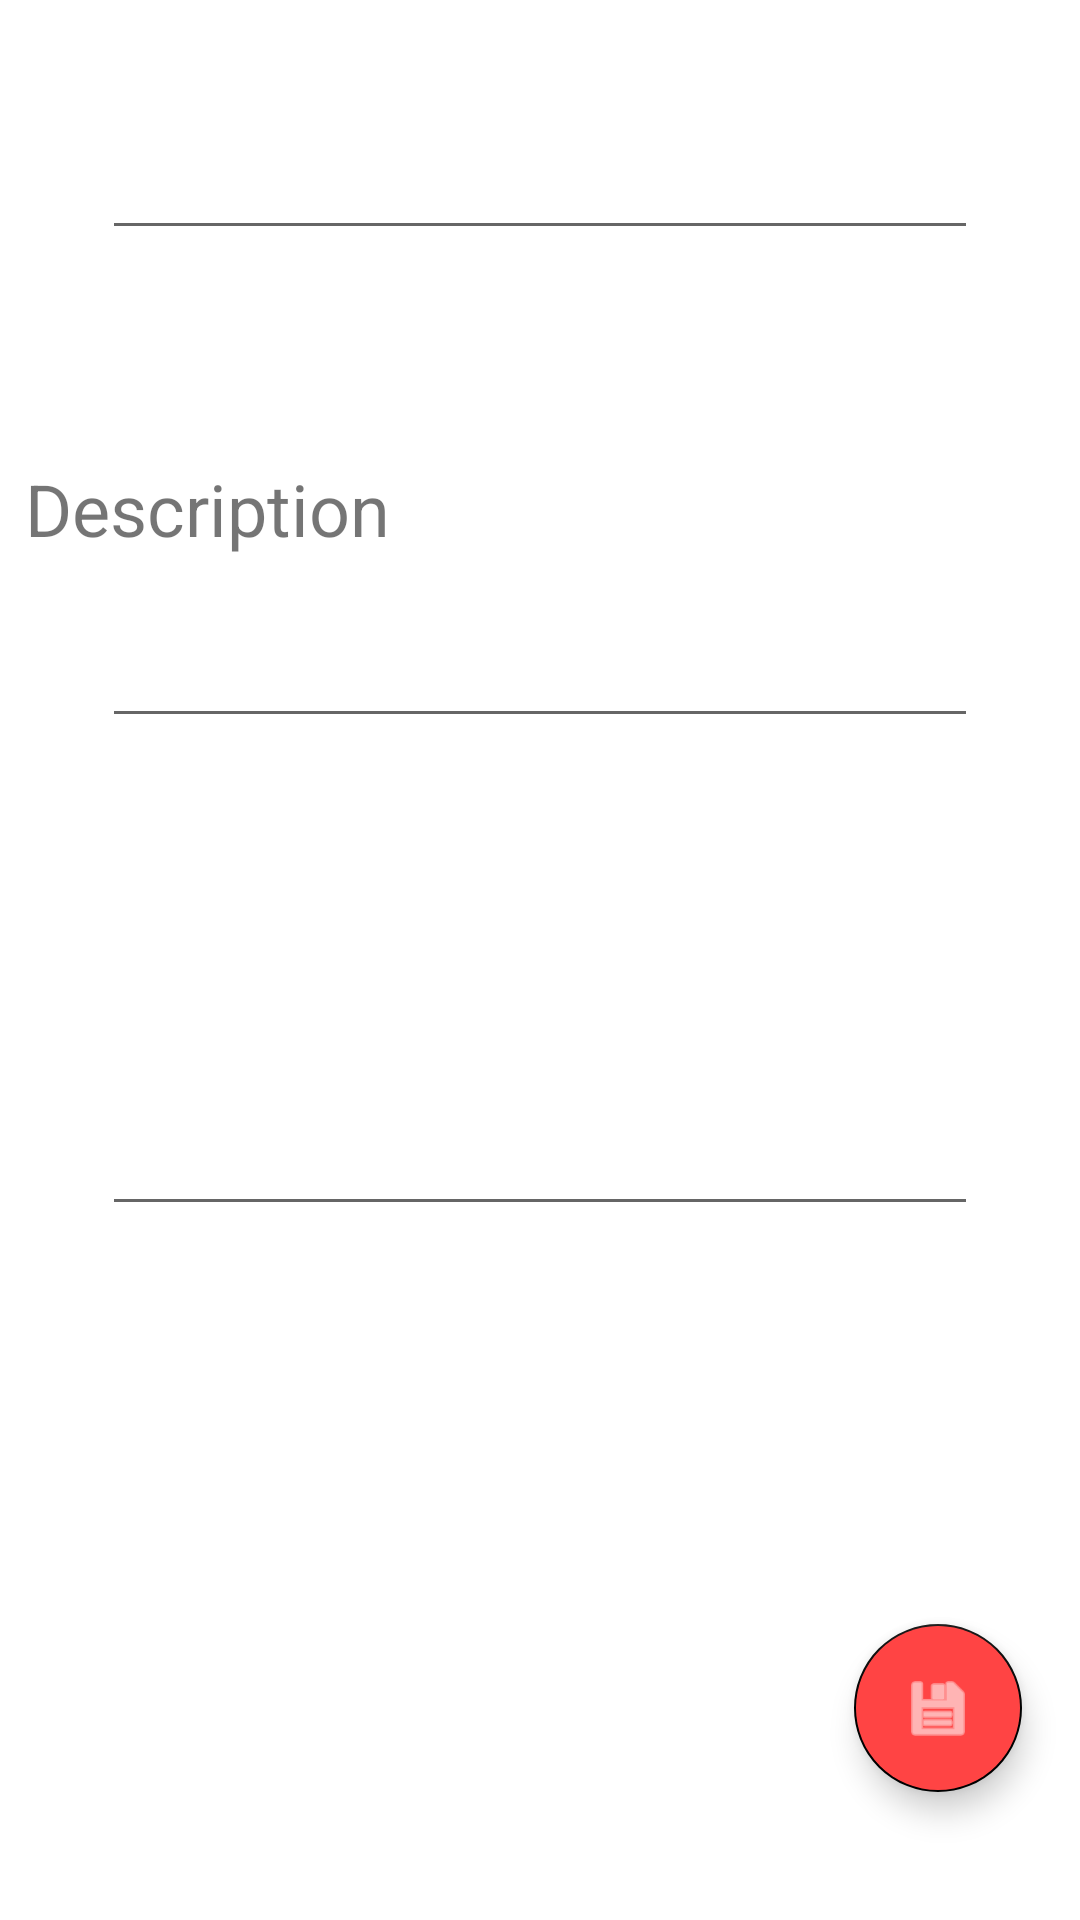

Locate icon controls on the screen. Image size 1080px×1920px, boxes as (x1, y1, x2, y2).
save: (854, 1624, 1022, 1792)
